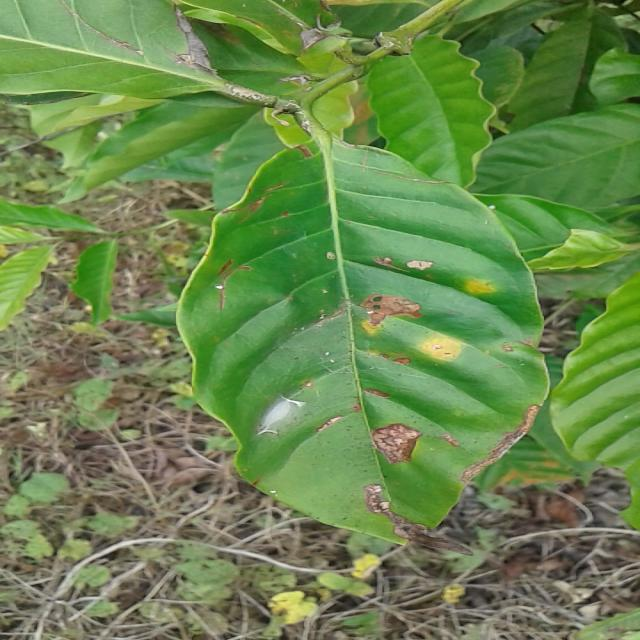Enfermedad-Roya: (175, 142, 554, 543)
